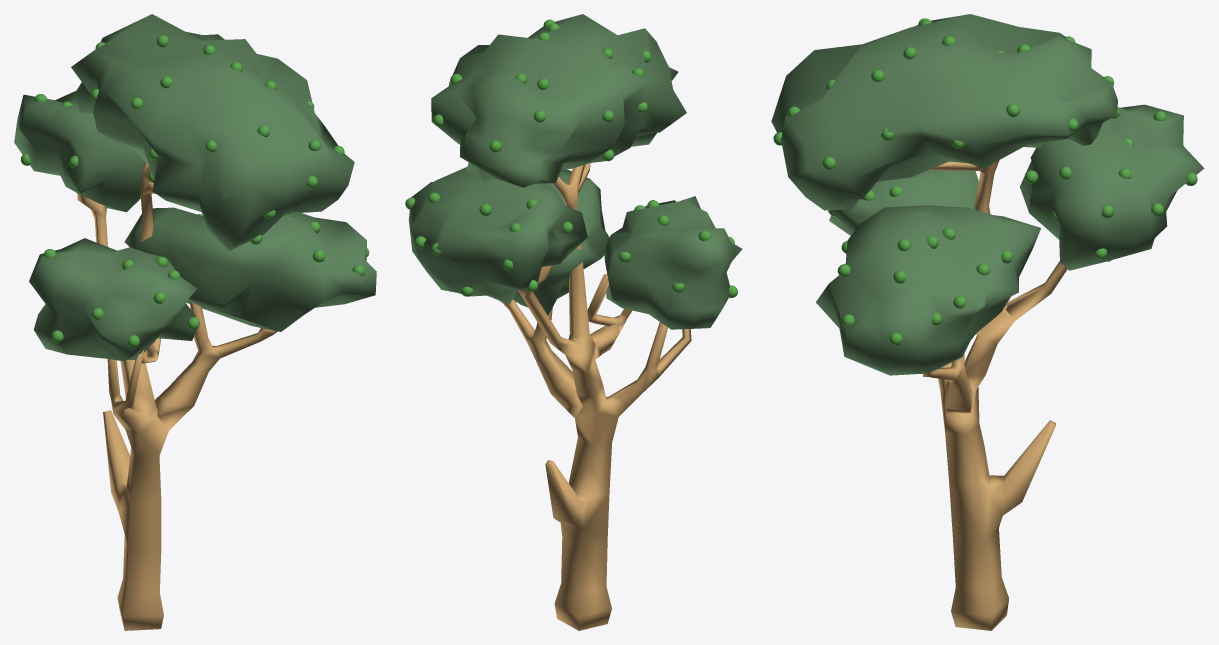
The model's file is tree_08.gltf.
The picture shows the model from 3 angles, left to right: view 1: azimuth 30°, elevation 25°; view 2: azimuth 150°, elevation 25°; view 3: azimuth 270°, elevation 25°; orthographic projection. The views are drawn at different scales.
Visible parts, largest first — view 1: tree_08; view 2: tree_08; view 3: tree_08.
Boxes of the visible parts, bbox=[...] form: tree_08: bbox=[14, 14, 376, 630]; tree_08: bbox=[405, 14, 742, 630]; tree_08: bbox=[771, 14, 1204, 630].
Bounding box in the file's own units: 2.86 × 4.98 × 3.19.
1 material, 1 textured.
